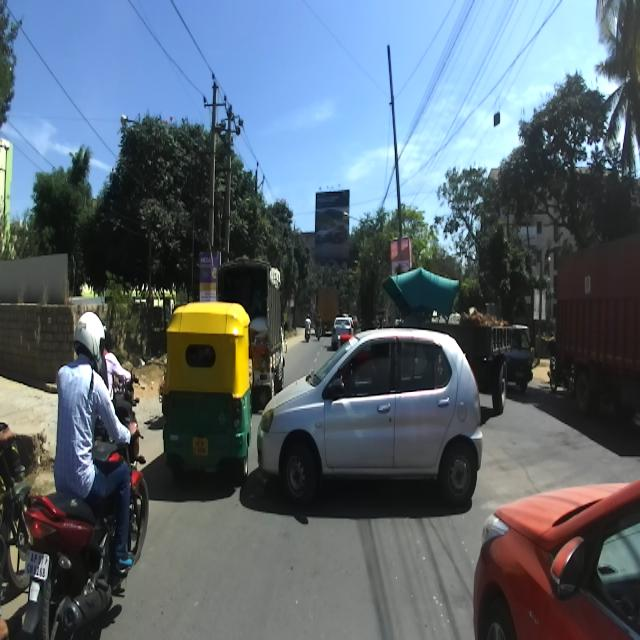auto ahead at: (165, 300, 258, 488)
car ahead at: (259, 308, 489, 544)
electric pole ahead at: (188, 65, 245, 249)
motorcycle ahead at: (30, 304, 151, 640)
